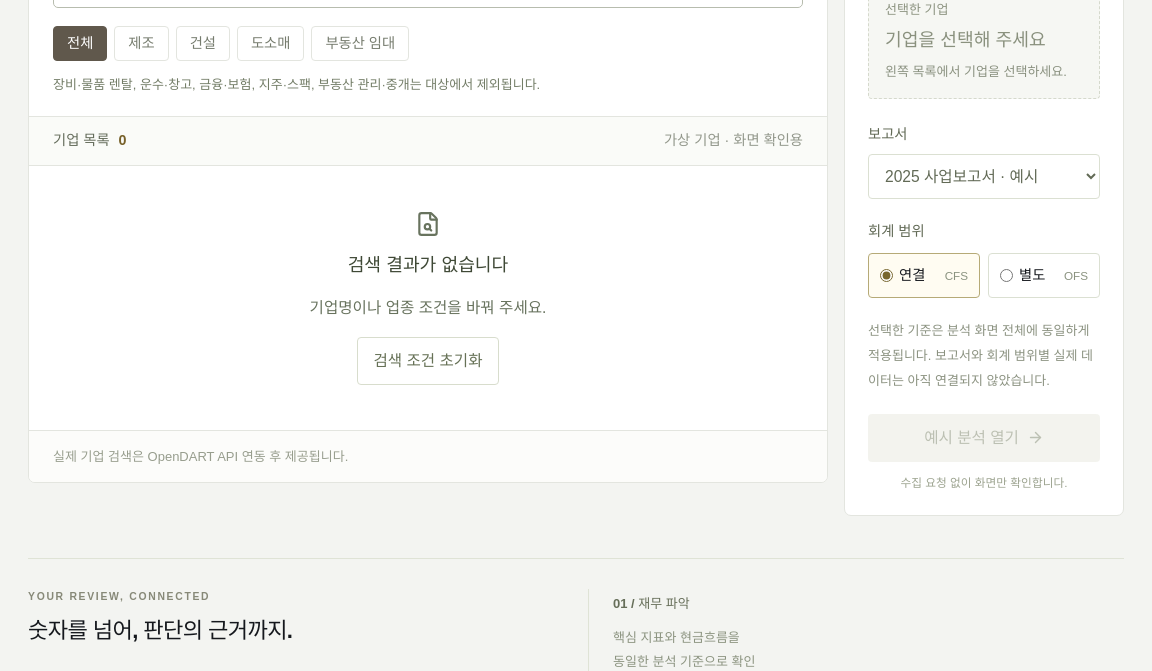
Scenario: shows an empty result and allows resetting search
The width and height of the screenshot is (1152, 671).
(page scrolled)
Expected: the heading "검색 결과가 없습니다" is shown, [348,252,508,279]
Click the button "검색 조건 초기화".
click(428, 361)  # box [358,337,499,385]
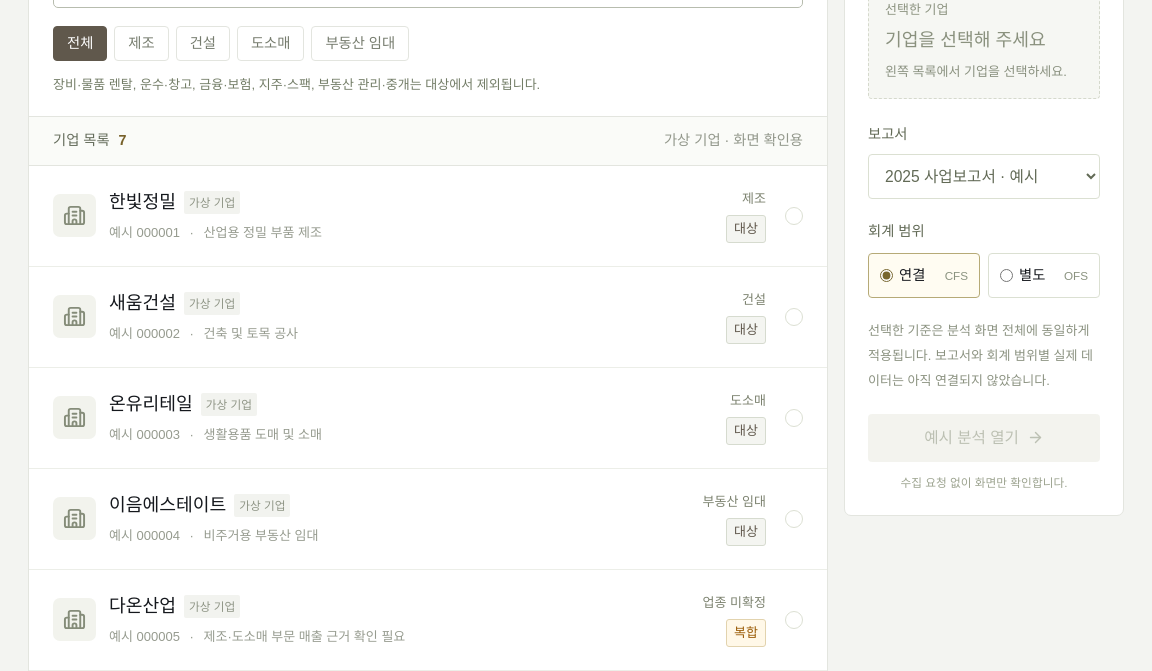
Result: the button "한빛정밀 가상 기업 예시 000001 · 산업용 정밀 부품 제조 제조 대상" is shown at [29,166,827,267]
